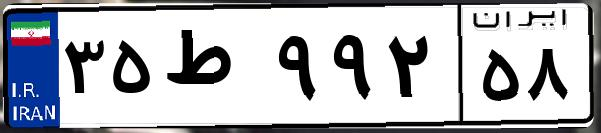2: (385, 28, 445, 110)
3: (57, 26, 110, 100)
5: (475, 38, 525, 113), (110, 28, 158, 98)
8: (525, 38, 570, 115)
9: (270, 28, 330, 110), (330, 28, 385, 110)
ط: (158, 20, 270, 120)
